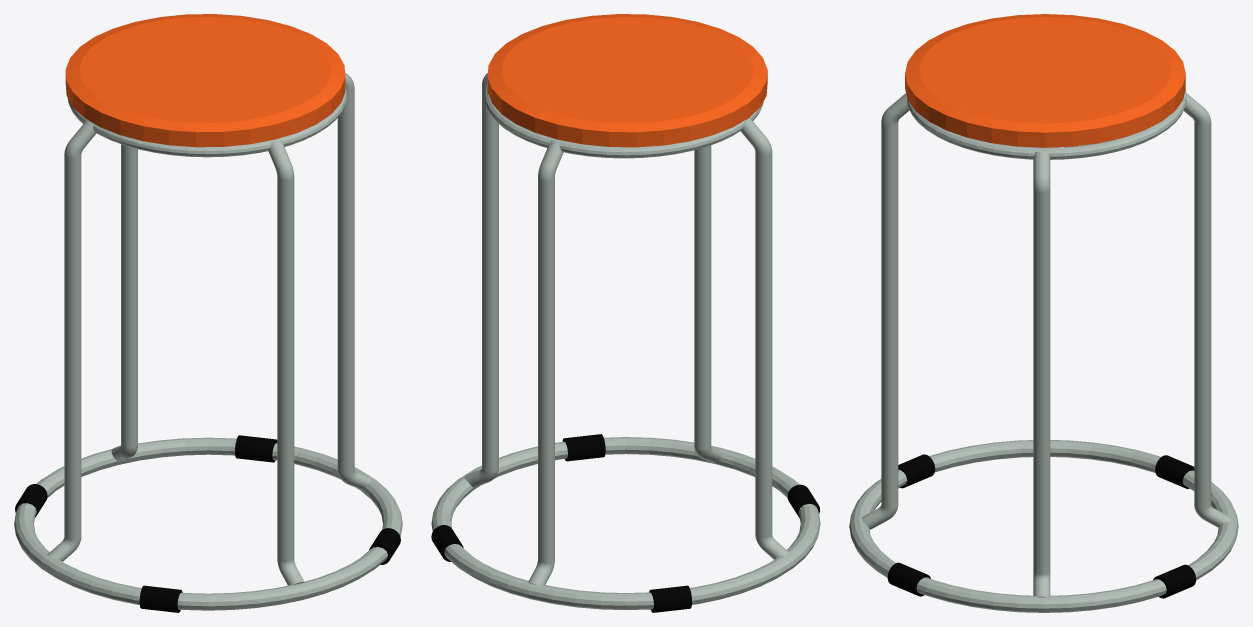
File: NewStool.fbx
3 renders of one model, left to right at view 1: azimuth 30°, elevation 25°; view 2: azimuth 150°, elevation 25°; view 3: azimuth 270°, elevation 25°, orthographic.
Visible parts, largest first — view 1: Cylinder.005, Cylinder.011, Cylinder.008, Cylinder.009, Cylinder.010, Cylinder.006, Cylinder.007, Cylinder.004, Cylinder, Cylinder.003, Cylinder.002; view 2: Cylinder.005, Cylinder.011, Cylinder.009, Cylinder.006, Cylinder.010, Cylinder.008, Cylinder.007, Cylinder.002, Cylinder.003, Cylinder, Cylinder.004; view 3: Cylinder.005, Cylinder.011, Cylinder.010, Cylinder.008, Cylinder.006, Cylinder.007, Cylinder, Cylinder.003, Cylinder.002, Cylinder.004.
Part boxes in pixels (left/top/right/bottom): Cylinder.005: left=65, top=14, right=345, bottom=147; Cylinder.011: left=14, top=437, right=402, bottom=610; Cylinder.008: left=268, top=140, right=304, bottom=585; Cylinder.009: left=47, top=120, right=96, bottom=561; Cylinder.010: left=337, top=72, right=371, bottom=489; Cylinder.006: left=111, top=144, right=137, bottom=461; Cylinder.007: left=67, top=85, right=347, bottom=157; Cylinder.004: left=139, top=585, right=182, bottom=612; Cylinder: left=235, top=435, right=277, bottom=462; Cylinder.003: left=369, top=528, right=400, bottom=564; Cylinder.002: left=15, top=484, right=47, bottom=517; Cylinder.005: left=487, top=14, right=767, bottom=147; Cylinder.011: left=431, top=437, right=820, bottom=609; Cylinder.009: left=740, top=117, right=789, bottom=559; Cylinder.006: left=528, top=140, right=563, bottom=585; Cylinder.010: left=464, top=73, right=498, bottom=487; Cylinder.008: left=694, top=145, right=721, bottom=462; Cylinder.007: left=484, top=83, right=763, bottom=158; Cylinder.002: left=649, top=585, right=691, bottom=612; Cylinder.003: left=562, top=434, right=605, bottom=461; Cylinder: left=431, top=525, right=463, bottom=561; Cylinder.004: left=787, top=484, right=819, bottom=518; Cylinder.005: left=905, top=14, right=1185, bottom=147; Cylinder.011: left=849, top=440, right=1238, bottom=612; Cylinder.010: left=1033, top=151, right=1050, bottom=597; Cylinder.008: left=861, top=93, right=909, bottom=529; Cylinder.006: left=1183, top=92, right=1230, bottom=527; Cylinder.007: left=907, top=89, right=1186, bottom=159; Cylinder: left=1153, top=564, right=1196, bottom=598; Cylinder.003: left=887, top=562, right=930, bottom=596; Cylinder.002: left=1155, top=455, right=1194, bottom=488; Cylinder.004: left=898, top=454, right=935, bottom=488.
Size of the model in its own units: 45.73 by 60.31 by 45.73.
